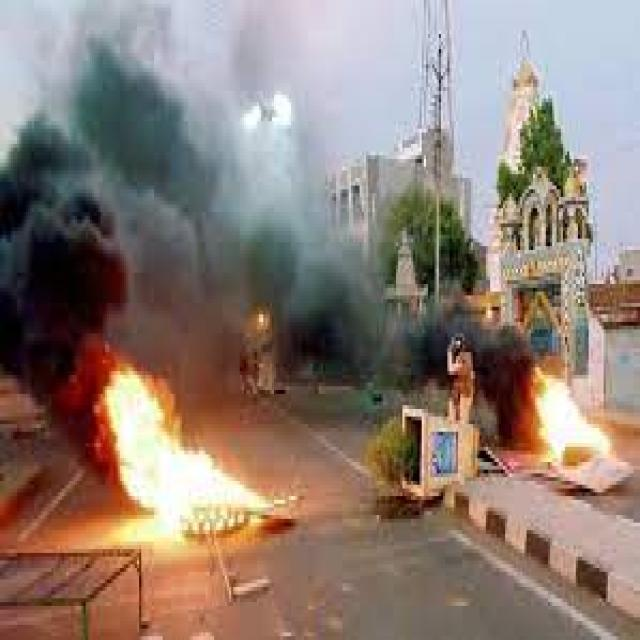Fire: (96, 366, 270, 542), (528, 368, 614, 463)
Smoke: (41, 44, 326, 362), (3, 112, 114, 446), (391, 304, 526, 389), (69, 2, 338, 44), (327, 233, 388, 385), (492, 390, 527, 460)
